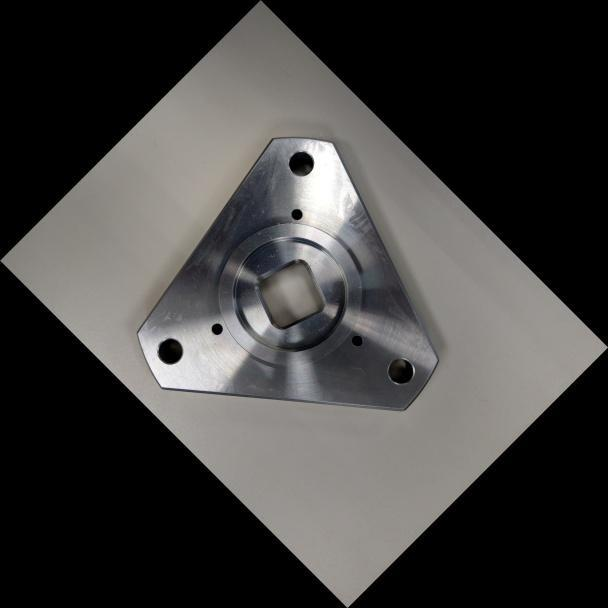hole: (377, 349, 423, 394), (279, 141, 323, 186), (148, 330, 190, 372), (345, 328, 368, 352), (284, 202, 308, 225), (204, 317, 227, 340)
